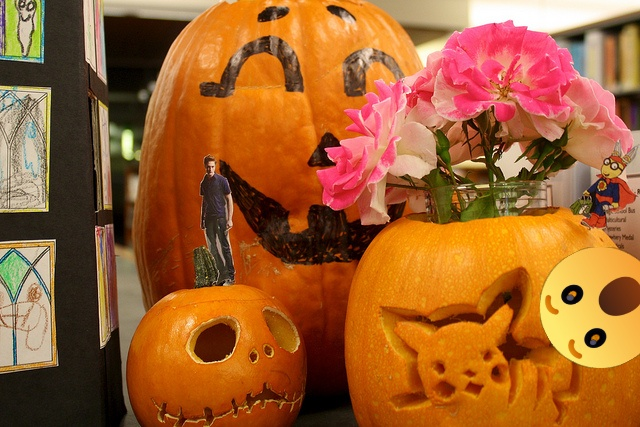wow: (540, 247, 640, 368)
